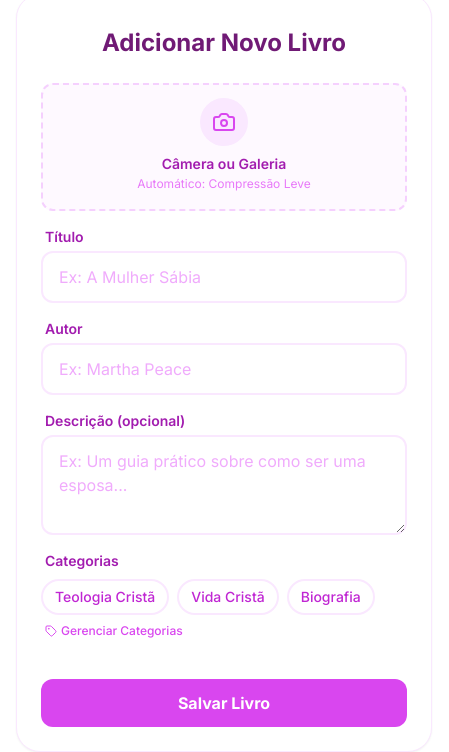
NewBookPage (Admin CRUD) › displays zod validation errors when submitting empty form
The width and height of the screenshot is (449, 752).
(page scrolled)
Click the button "Salvar Livro": (224, 703) [41, 679, 407, 727]
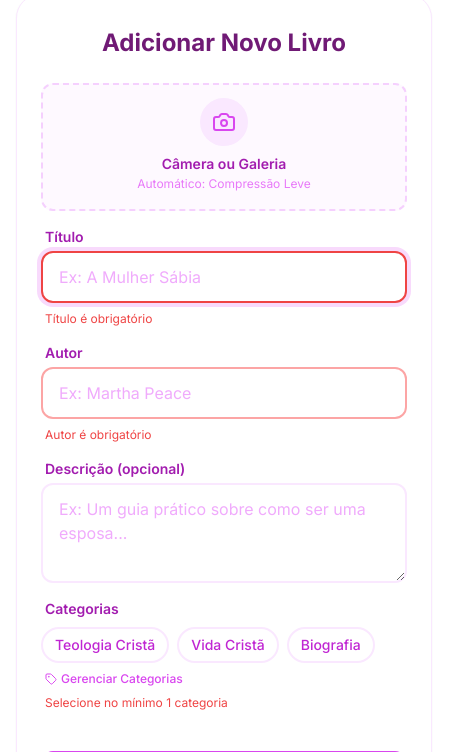
expect the text "Título é obrigatório" is shown: met, box [45, 311, 152, 326]
expect the text "Autor é obrigatório" is shown: met, box [45, 427, 152, 442]
